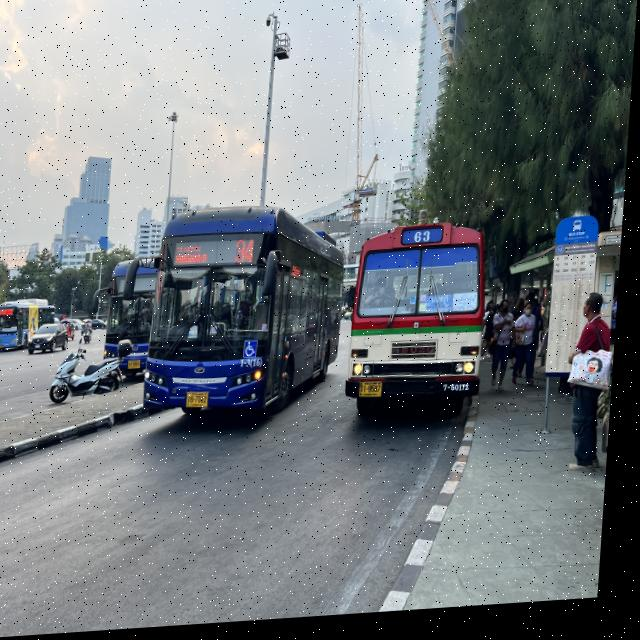BMTA-bus: (350, 228, 492, 427), (0, 300, 59, 352)
Bus Line Number: (232, 240, 264, 270), (414, 234, 437, 252), (11, 310, 18, 316)
Bus Side Number: (447, 387, 478, 402), (243, 361, 271, 374), (9, 343, 14, 346)
Destination Sign: (175, 242, 218, 271), (427, 300, 459, 321), (6, 329, 16, 333)
TSB-Bus: (147, 212, 349, 423), (110, 259, 164, 377)
